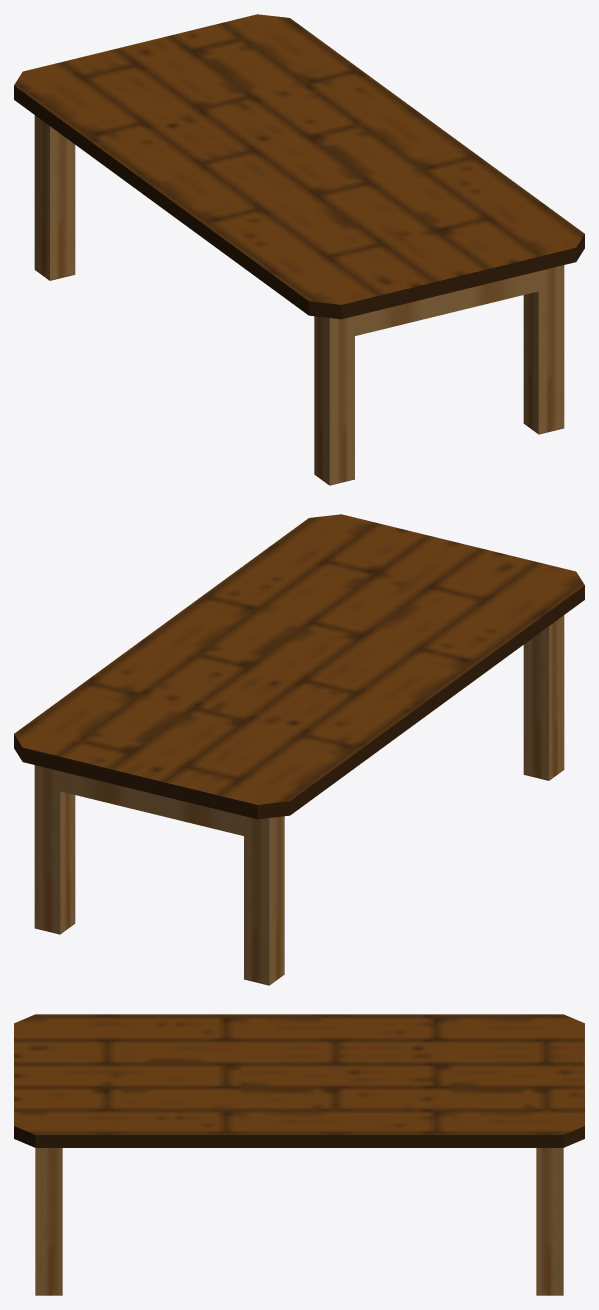
Rendered from wood_long_table.obj.
The picture shows the model from 3 angles, top to bottom: view 1: azimuth 30°, elevation 25°; view 2: azimuth 150°, elevation 25°; view 3: azimuth 270°, elevation 25°; orthographic projection. The views are drawn at different scales.
Parts seen in each view (by area): view 1: Wood_Long_Table; view 2: Wood_Long_Table; view 3: Wood_Long_Table.
Boxes of the visible parts, x1,y1,x2,y2 form: Wood_Long_Table: (14, 14, 584, 485); Wood_Long_Table: (14, 514, 584, 985); Wood_Long_Table: (14, 1014, 584, 1295).
Bounding box in the file's own units: 2 × 1.31 × 4.
